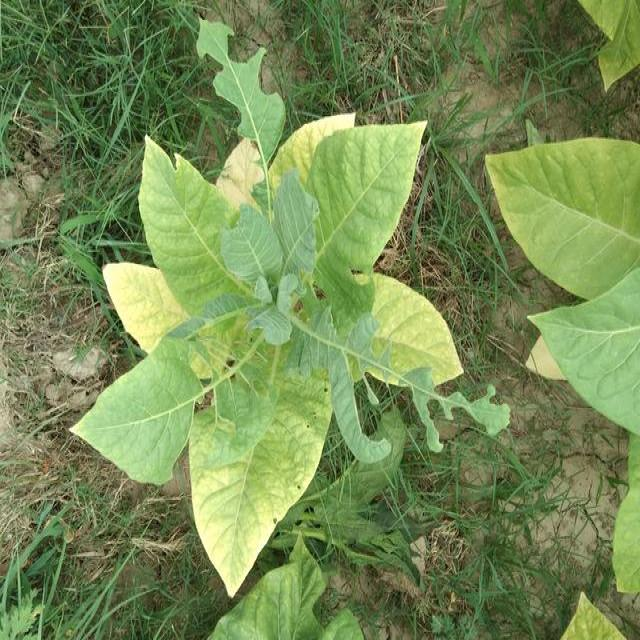crop: (63, 5, 462, 586)
